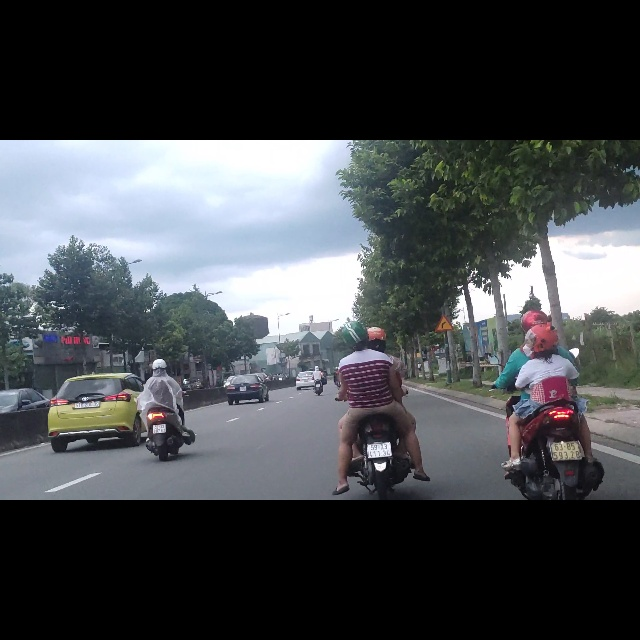bien_nguy_hiem: (434, 311, 454, 341)
